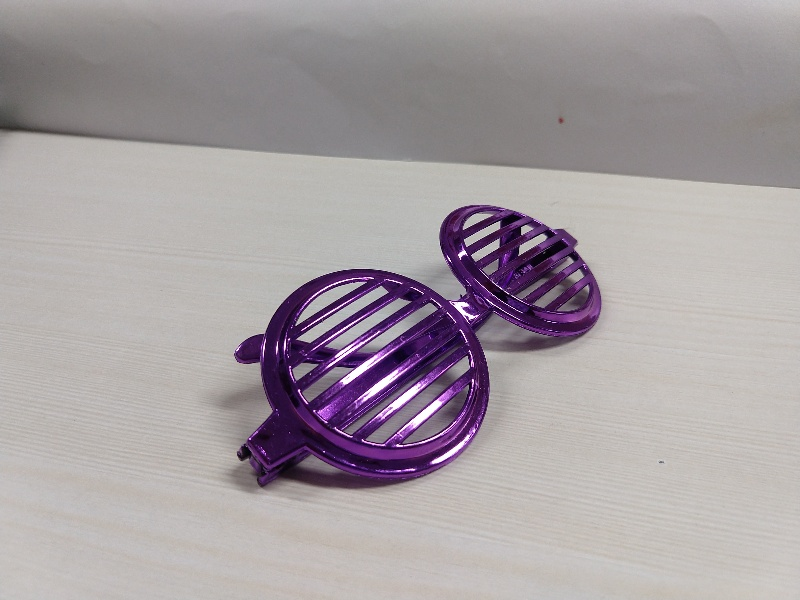shades: (219, 198, 609, 491)
